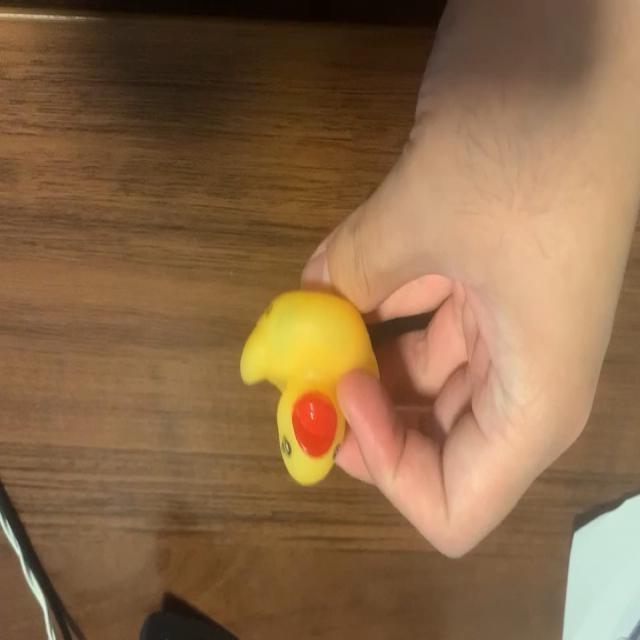rubber-duck: (240, 290, 376, 483)
